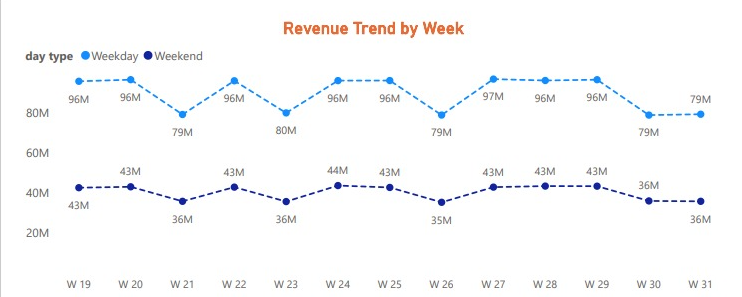

The page's visual inventory and layout, read from the dashboard file:
{"tool":"powerbi","page":{"name":"Revenue","canvas":[700,400],"ordinal":1},"visuals":[{"type":"lineChart","fields":{"Category":["dim_date.week no"],"Y":["key_measures.Revenue"],"Series":["dim_hotals.category"]},"box":[35.3,58.4,640.4,256.7],"z":0}]}

Visuals, with their boxes on the page's 700x400 design canvas (x1, y1, x2, y2). These are canvas units, not pixel positions in the 742x297 screenshot, which may show the page scaled, cropped or inside an application window:
lineChart - dim_date.week no x key_measures.Revenue: select_region(35, 58, 676, 315)
